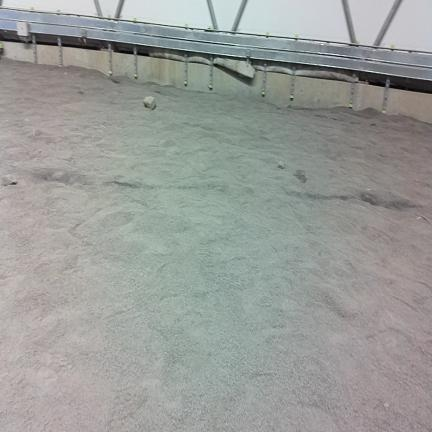Rock: (143, 96, 156, 110), (2, 175, 17, 185), (294, 170, 306, 182), (277, 161, 285, 169), (383, 402, 390, 409), (112, 79, 119, 83)
